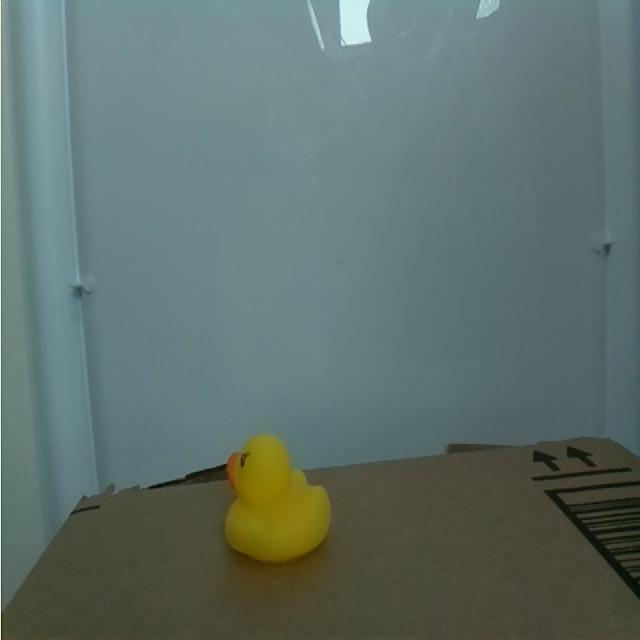duck_regular: (193, 424, 347, 576)
